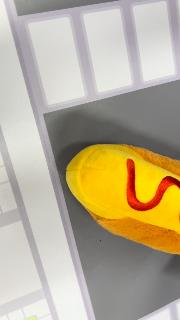hotdog: (65, 143, 179, 255)
